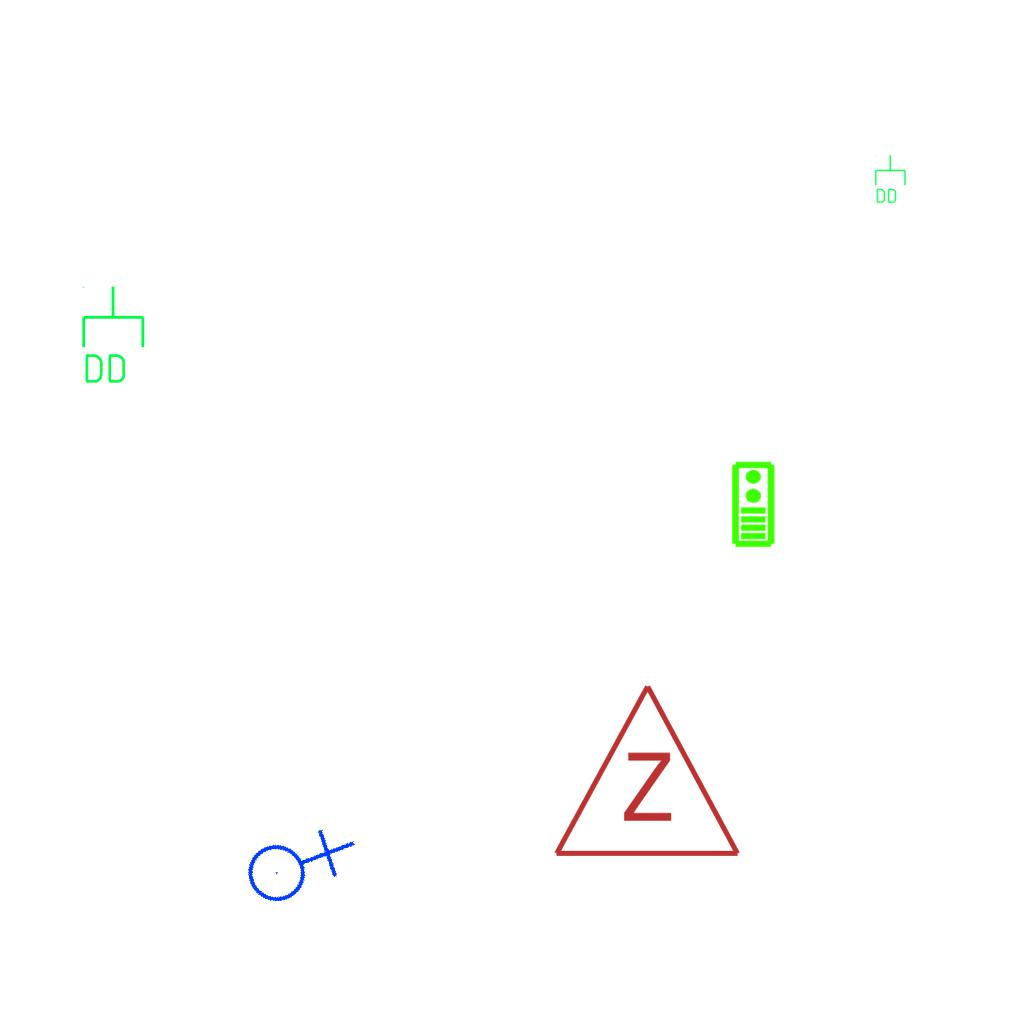Datenanschluss_zweifach: (78, 284, 147, 387), (873, 154, 907, 205)
Elektroanschluss_allgemein_230V_Geraeteanschlussdose_230V: (230, 799, 359, 925)
Gegensprechanlage_mit_Video: (729, 460, 776, 548)
Zimmersignalleuchte: (547, 671, 743, 871)
